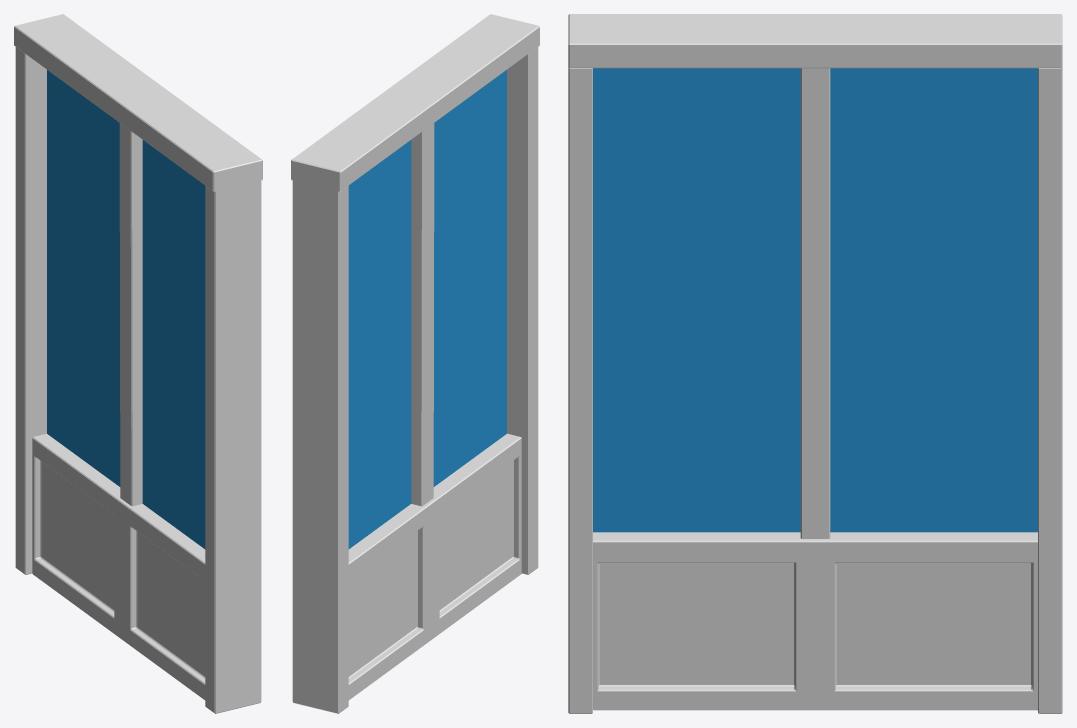
Rendered from WALLS3.fbx.
3 views of the same model, side by side, from view 1: azimuth 30°, elevation 25°; view 2: azimuth 150°, elevation 25°; view 3: azimuth 270°, elevation 25° (orthographic). The views are drawn at different scales.
Parts seen in each view (by area): view 1: Wall3; view 2: Wall3; view 3: Wall3.
Boxes of the visible parts, bbox=[...] form: Wall3: bbox=[14, 14, 262, 713]; Wall3: bbox=[291, 14, 539, 713]; Wall3: bbox=[568, 14, 1062, 713].
Size of the model in its own units: 28.99 by 300 by 200.
